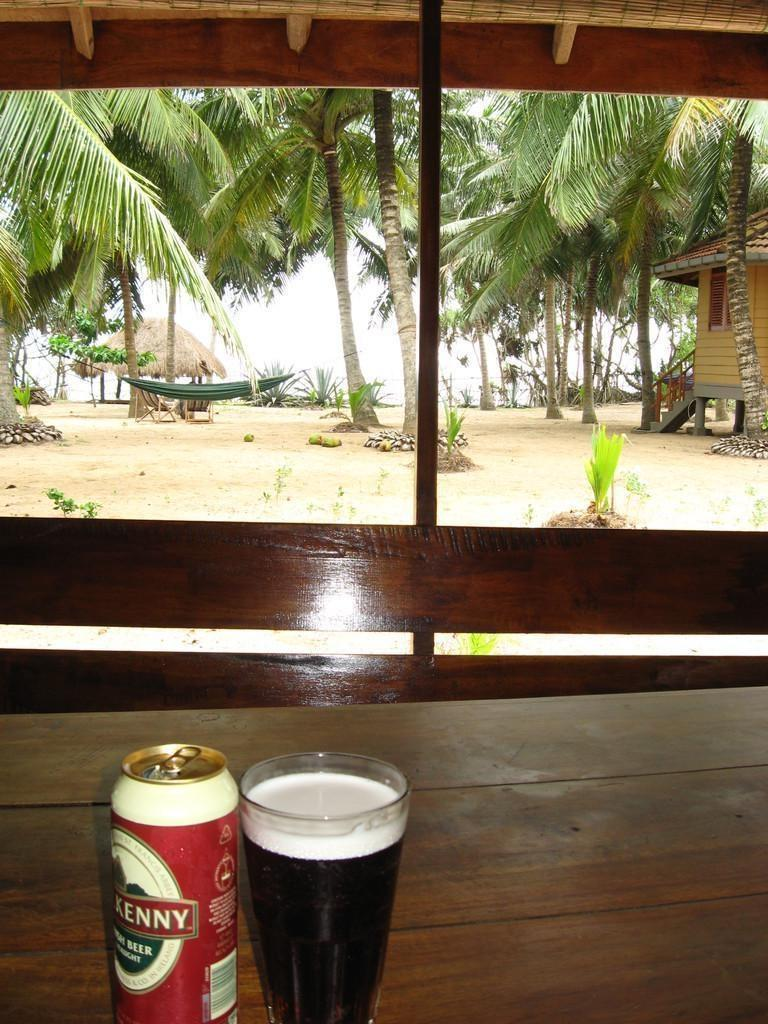glass-normal: (235, 743, 413, 1023)
tin can: (103, 743, 239, 1023)
